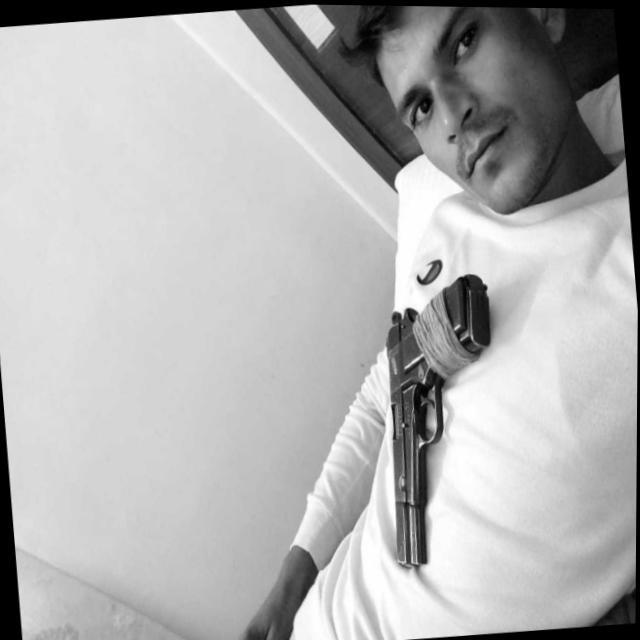weapon: (370, 266, 514, 572)
